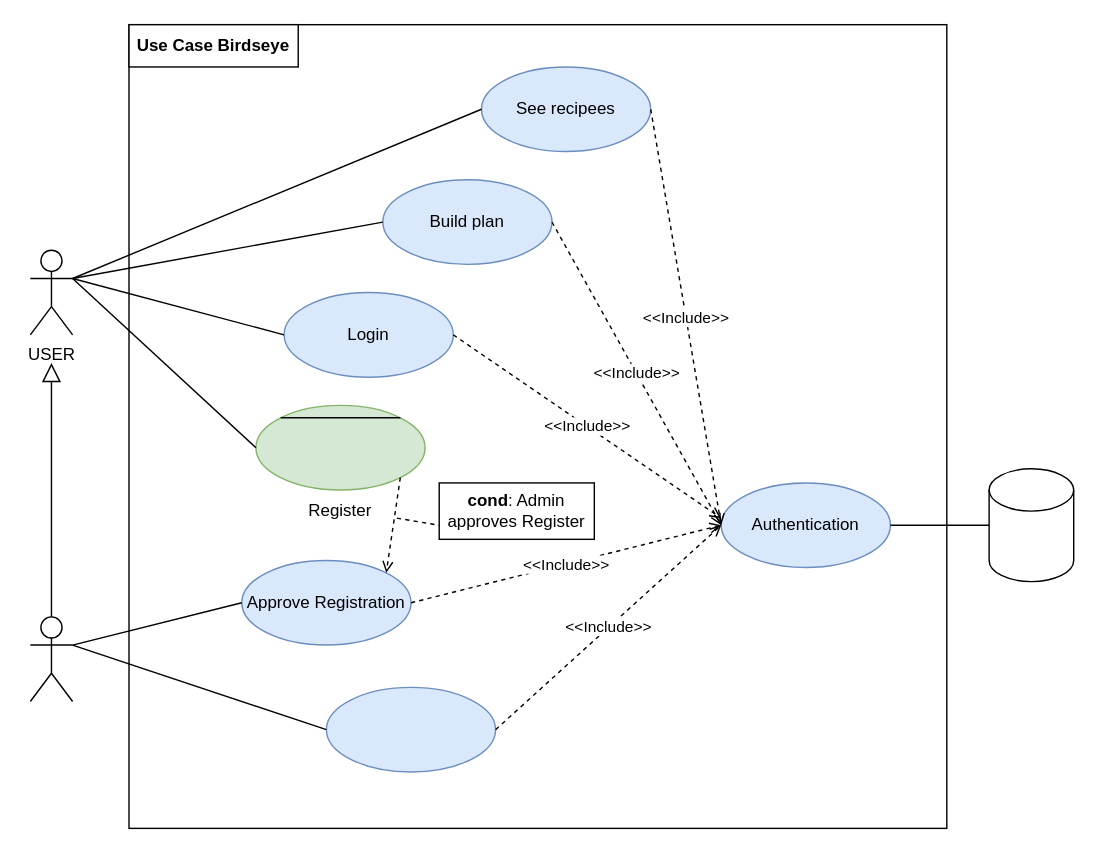
Image size: 1098x853. Some labels were removed from this diagram. Here are the shapes that lost their labels. From the top down, the centre of each, then its label:
At [340,447]: "ext . Approve Registration".
At [1031,524]: "DB".
At [51,658]: "ADMIN".
At [410,729]: "Write Recipe".
